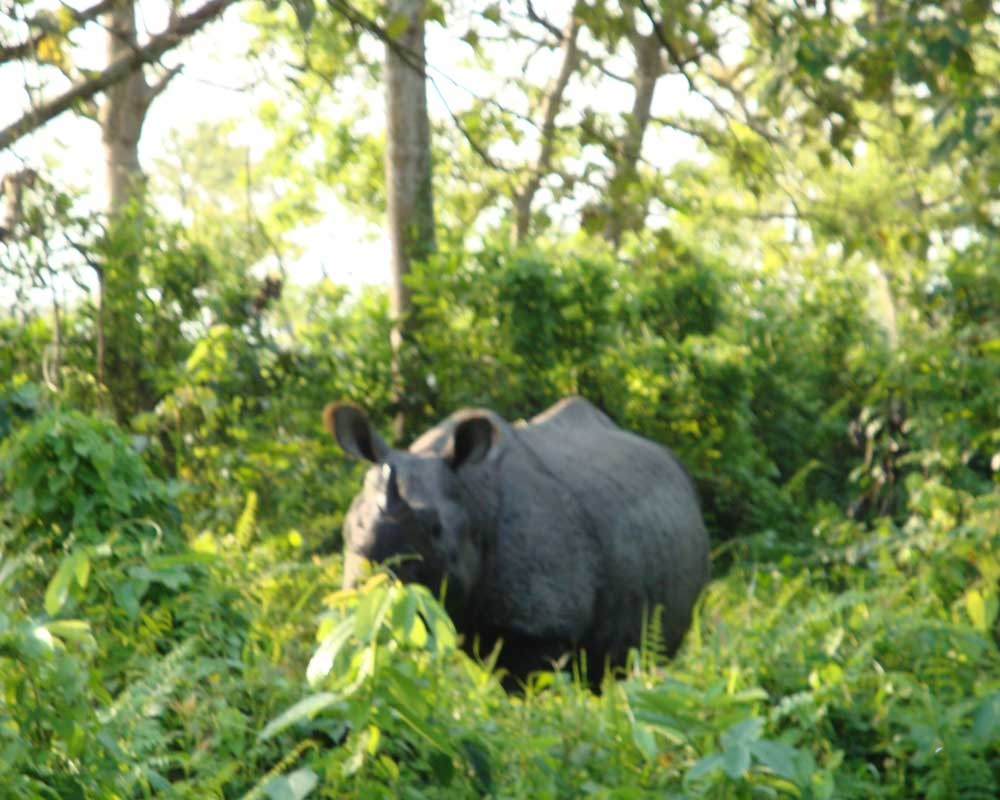rhino: (325, 388, 710, 709)
